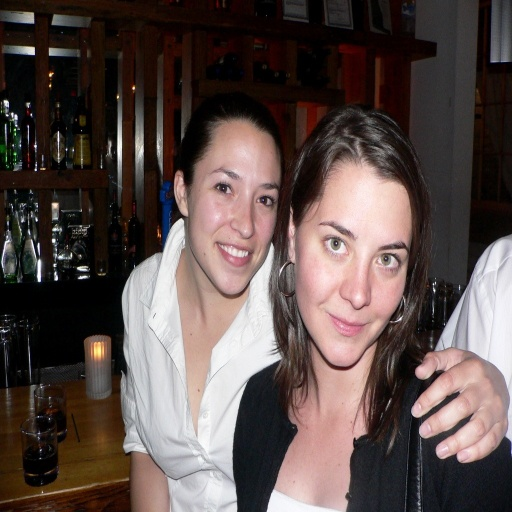hand: (431, 330, 503, 462)
